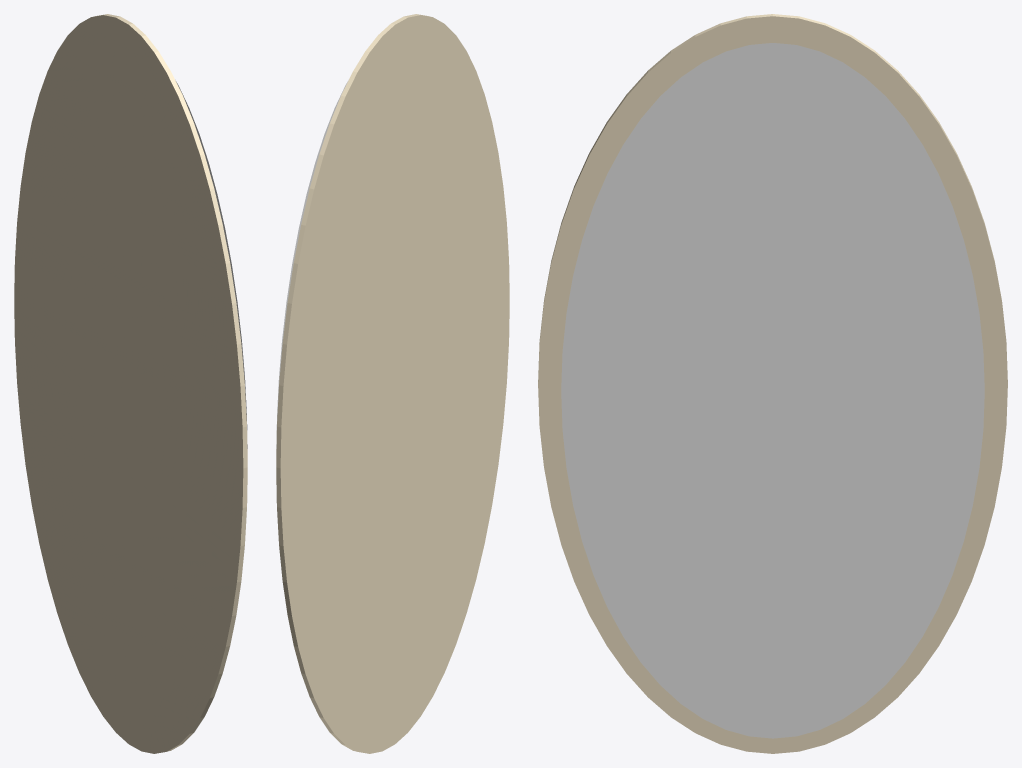
The model's file is SM_Mirror_OvalHalo.fbx.
The picture shows the model from 3 angles, left to right: view 1: azimuth 30°, elevation 25°; view 2: azimuth 150°, elevation 25°; view 3: azimuth 270°, elevation 25°; orthographic projection. The views are drawn at different scales.
Visible parts, largest first — view 1: SM_Mirror_OvalHalo; view 2: SM_Mirror_OvalHalo; view 3: SM_Mirror_OvalHalo.
Boxes of the visible parts, x1,y1,x2,y2 form: SM_Mirror_OvalHalo: [14, 14, 247, 753]; SM_Mirror_OvalHalo: [276, 14, 509, 753]; SM_Mirror_OvalHalo: [538, 14, 1007, 753].
Size of the model in its own units: 2.8 by 123 by 71.
